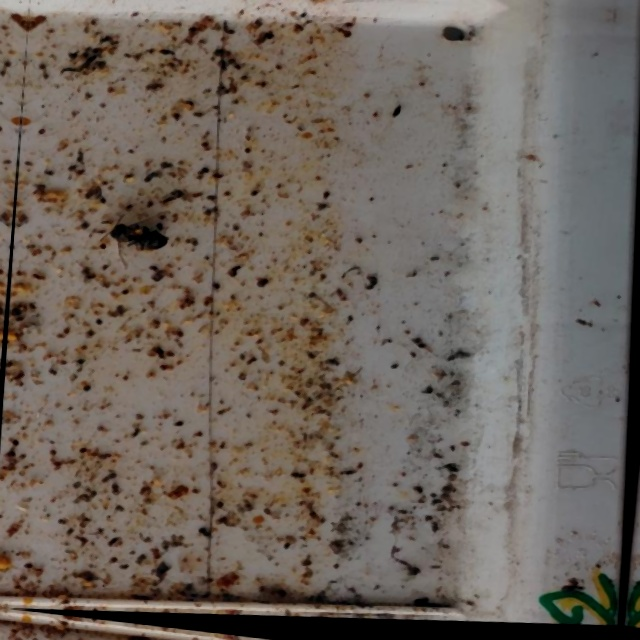varroa: (210, 284, 224, 294), (79, 223, 91, 234), (256, 281, 269, 291), (158, 51, 174, 59), (321, 193, 332, 204), (227, 271, 239, 281), (200, 168, 213, 177), (388, 367, 400, 376), (353, 465, 365, 474), (204, 196, 217, 204), (11, 316, 24, 324), (201, 533, 214, 541), (10, 439, 20, 449), (199, 143, 210, 152), (147, 266, 159, 274), (211, 175, 224, 182), (36, 128, 46, 137), (98, 244, 108, 253), (47, 449, 57, 458), (295, 475, 306, 483), (174, 423, 186, 430), (80, 386, 92, 393), (94, 320, 104, 328), (215, 504, 225, 512), (225, 30, 236, 37), (106, 474, 117, 481), (21, 563, 32, 570), (99, 199, 108, 207), (196, 529, 208, 535), (249, 193, 259, 200), (72, 482, 82, 489), (244, 149, 252, 157), (77, 448, 86, 455), (282, 546, 291, 553), (189, 28, 199, 34), (121, 291, 131, 297), (111, 484, 119, 491), (142, 179, 151, 185), (289, 476, 297, 481)
